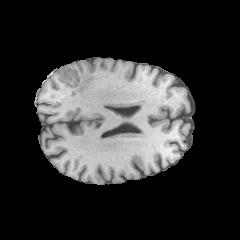glioma: (56, 64, 93, 96)
